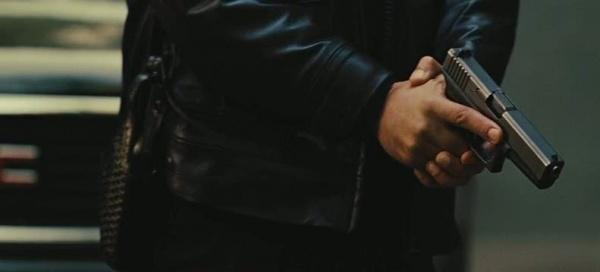Gun: (439, 46, 564, 192)
